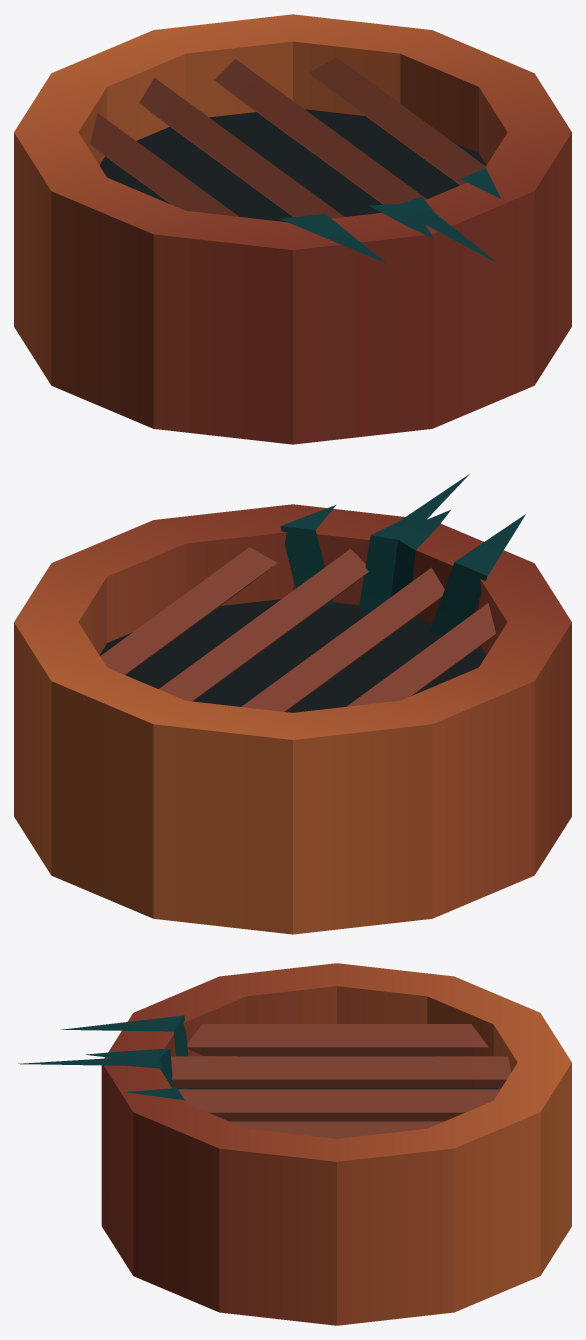
The model's file is sewer_outlet_1.glb.
3 views of the same model, one above another, from view 1: azimuth 30°, elevation 25°; view 2: azimuth 150°, elevation 25°; view 3: azimuth 270°, elevation 25° (orthographic). The views are drawn at different scales.
Visible parts, largest first — view 1: sewer_outlet_1; view 2: sewer_outlet_1; view 3: sewer_outlet_1.
Boxes of the visible parts, box(x1,y1,x2,y2) form: sewer_outlet_1: box(14, 14, 571, 444); sewer_outlet_1: box(14, 474, 571, 934); sewer_outlet_1: box(18, 963, 571, 1325).
Bounding box in the file's own units: 5.2 × 2.05 × 6.17.
1 material, 1 textured.
